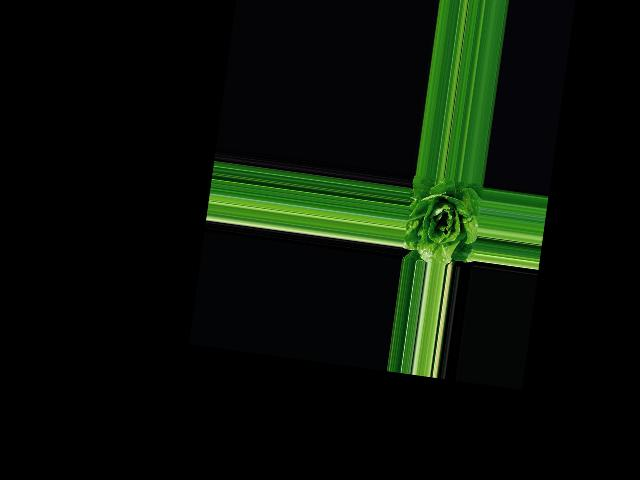lettuce: (401, 175, 481, 264)
